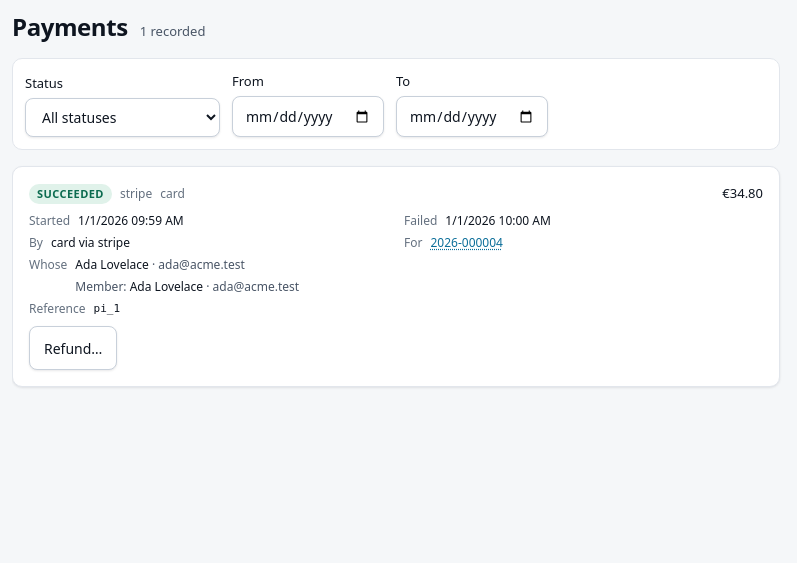
Scenario: a succeeded payment › says the money leaves asynchronously
What coordinates should you click on to do the following:
click the button "Refund…"
I would click on:
 (73, 348)
Its box is [29,326,117,370].
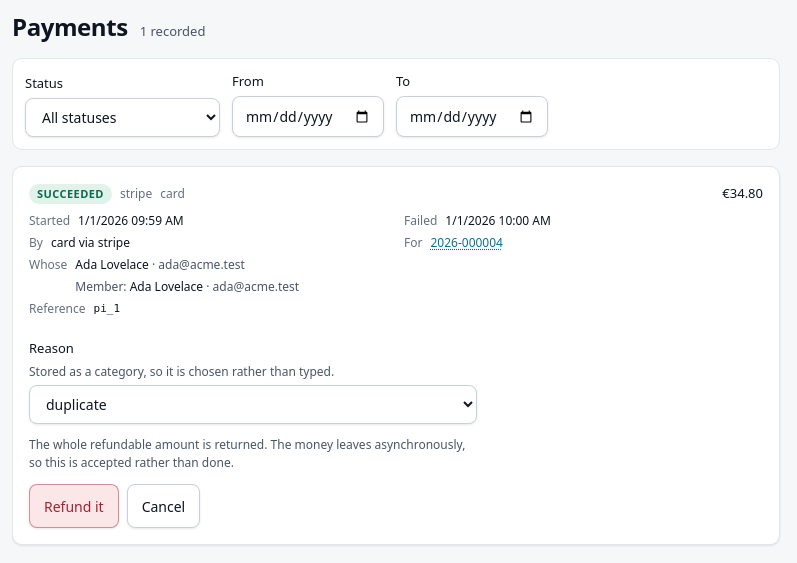
Result: the text "accepted rather than done" is shown at [29,436,466,471]
